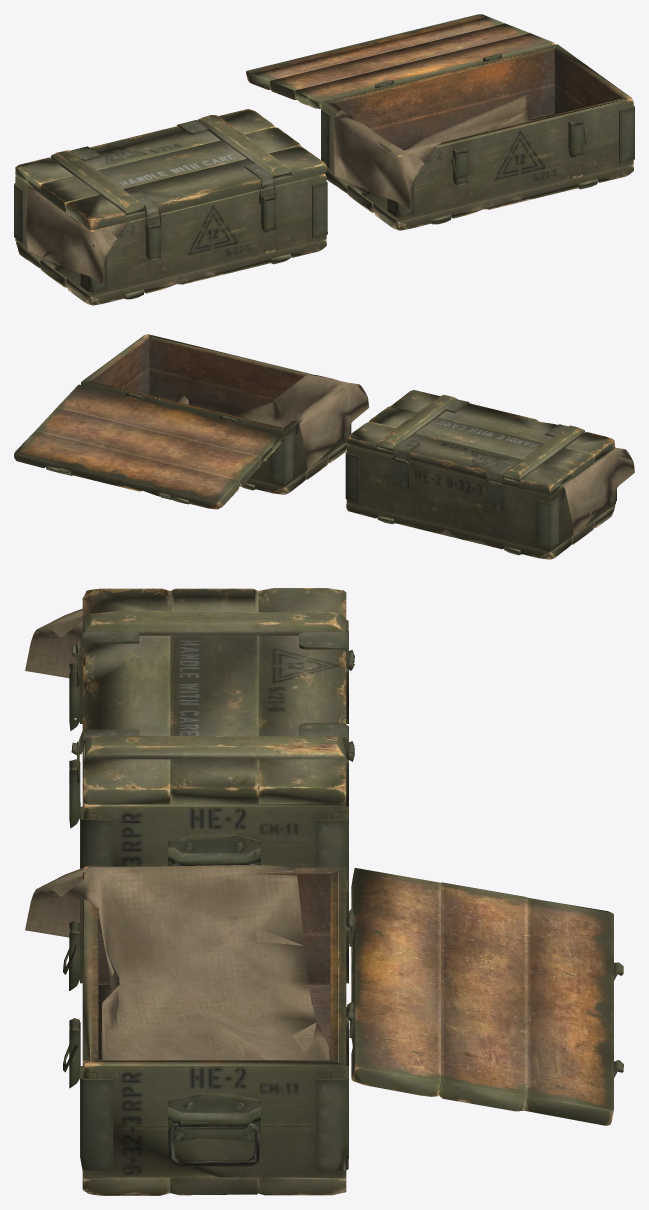
File: old_military_crate.glb
The picture shows the model from 3 angles, top to bottom: view 1: azimuth 30°, elevation 25°; view 2: azimuth 150°, elevation 25°; view 3: azimuth 270°, elevation 25°; orthographic projection. The views are drawn at different scales.
Parts seen in each view (by area): view 1: old_military_crate_lid_a; view 2: old_military_crate_lid_a; view 3: old_military_crate_lid_a.
Part boxes in pixels (x1=…): old_military_crate_lid_a: x1=14, y1=14, x2=634, y2=305; old_military_crate_lid_a: x1=14, y1=334, x2=634, y2=559; old_military_crate_lid_a: x1=25, y1=588, x2=623, y2=1195.
Bounding box in the file's own units: 1.81 × 0.3009 × 0.9758.
1 material, 1 textured.
